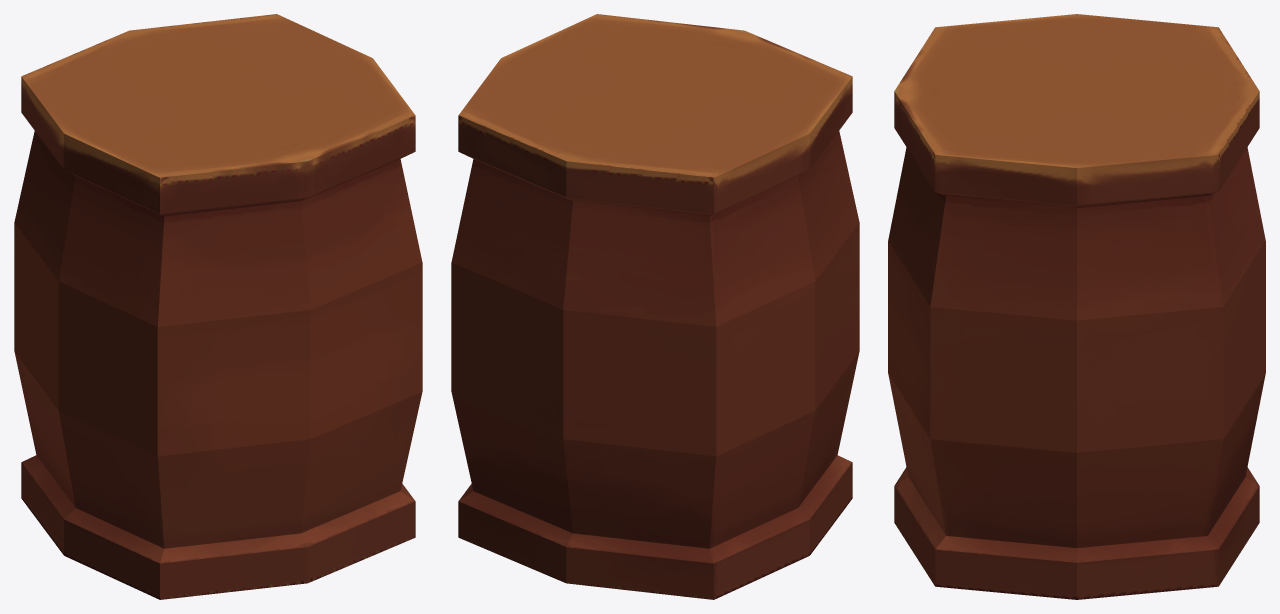
Rendered from mutong.FBX.
3 renders of one model, left to right at view 1: azimuth 30°, elevation 25°; view 2: azimuth 150°, elevation 25°; view 3: azimuth 270°, elevation 25°, orthographic. The views are drawn at different scales.
Visible parts, largest first — view 1: OBJ_Bucket_01; view 2: OBJ_Bucket_01; view 3: OBJ_Bucket_01.
Part boxes in pixels (x1,y1,x2,y2): OBJ_Bucket_01: (14, 14, 422, 599); OBJ_Bucket_01: (451, 14, 859, 599); OBJ_Bucket_01: (888, 14, 1265, 599).
Size of the model in its own units: 41.92 by 52.89 by 41.92.
1 material, 1 textured.
